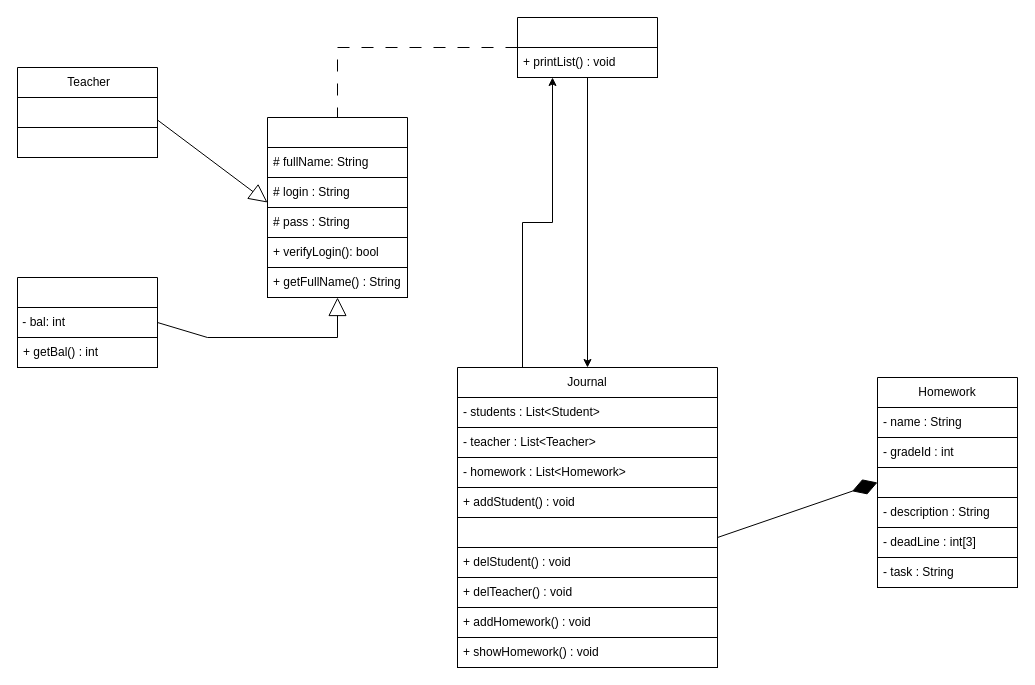
Some shapes in this 1035 by 685 pixel diagram are drawn without their labels. Here are the shapes that lost their labels. From the top down, the box of each, then its label:
(516, 16, 658, 78): Menu
(16, 96, 158, 128): - salary: double
(16, 126, 158, 158): + getSalary() : double
(266, 116, 408, 298): User
(16, 276, 158, 368): Student
(876, 466, 1018, 498): - subject : String
(456, 516, 718, 548): + addTeacher() : void
